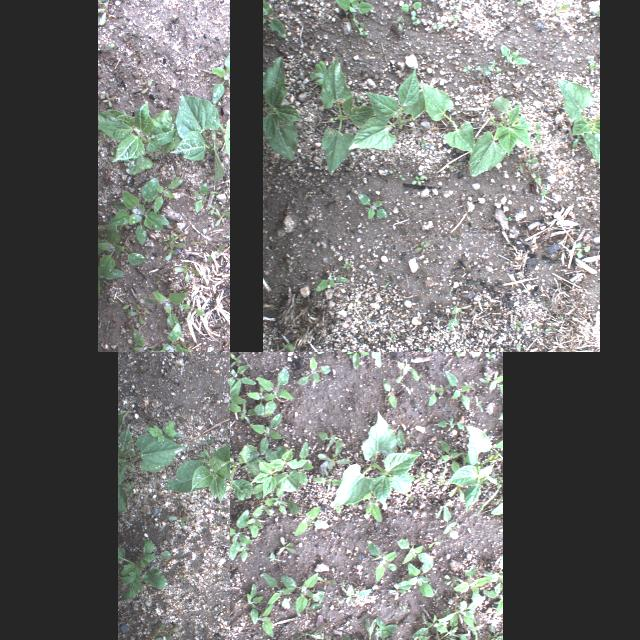crop: (329, 412, 418, 510), (348, 68, 434, 150), (120, 410, 188, 512), (321, 54, 374, 176), (98, 101, 182, 175), (470, 96, 536, 178), (170, 94, 224, 186), (158, 440, 230, 506), (262, 56, 302, 162), (448, 423, 494, 511), (420, 84, 476, 152), (558, 78, 600, 164), (255, 446, 297, 496), (230, 441, 260, 504)
weed: (109, 177, 169, 245), (98, 222, 146, 300), (120, 540, 172, 600), (138, 292, 186, 334), (394, 556, 434, 598), (286, 501, 328, 539), (282, 570, 318, 612), (365, 542, 397, 586), (248, 413, 282, 452), (454, 565, 486, 605), (252, 371, 294, 401), (446, 368, 472, 414), (230, 507, 252, 560), (209, 49, 230, 104), (335, 0, 373, 30), (152, 178, 182, 214), (298, 359, 334, 389), (442, 600, 478, 630), (291, 439, 313, 488), (153, 323, 189, 352), (338, 578, 372, 608), (261, 573, 293, 603), (263, 0, 287, 38), (246, 385, 276, 415), (244, 585, 266, 625), (144, 419, 182, 441), (413, 613, 445, 639), (358, 193, 388, 219), (394, 356, 420, 386), (318, 448, 352, 470), (230, 361, 253, 393), (129, 330, 162, 352), (397, 539, 427, 563), (352, 352, 395, 368), (310, 60, 336, 86), (438, 442, 460, 472), (316, 272, 348, 292), (334, 352, 366, 372), (448, 305, 472, 331), (480, 370, 502, 398), (146, 621, 178, 640), (486, 552, 502, 590), (501, 45, 531, 65), (440, 508, 460, 538), (178, 304, 206, 324), (260, 605, 276, 639), (230, 385, 245, 421), (376, 617, 399, 640), (175, 260, 199, 282), (379, 379, 397, 408), (485, 589, 503, 617), (362, 617, 383, 640), (417, 470, 447, 486), (254, 496, 274, 520), (437, 625, 469, 640), (274, 538, 300, 556), (476, 59, 496, 82), (316, 429, 342, 446), (127, 304, 149, 324), (194, 183, 208, 214), (423, 379, 439, 406), (469, 628, 502, 640), (313, 470, 339, 484), (364, 500, 382, 520), (300, 623, 321, 640), (436, 419, 464, 431), (207, 245, 225, 263), (169, 514, 189, 530), (250, 518, 262, 540), (448, 486, 464, 502), (164, 240, 176, 260), (555, 1, 569, 17), (577, 242, 591, 258), (162, 240, 184, 250), (532, 122, 542, 144), (398, 428, 408, 450), (216, 208, 228, 226), (526, 152, 538, 170), (491, 500, 503, 518), (315, 577, 333, 589), (401, 2, 422, 12), (102, 92, 116, 106), (98, 2, 106, 26), (414, 242, 430, 254), (483, 352, 497, 365), (276, 494, 284, 516), (140, 80, 152, 94), (230, 352, 242, 366), (446, 572, 458, 586), (390, 588, 404, 600), (209, 184, 219, 200), (440, 382, 450, 398), (475, 392, 483, 412), (510, 321, 524, 332), (394, 15, 404, 30), (412, 174, 424, 186), (540, 186, 548, 204), (216, 124, 226, 138), (544, 322, 556, 333), (167, 224, 180, 234), (179, 342, 192, 352), (190, 238, 206, 246), (448, 162, 464, 170), (172, 232, 184, 242), (515, 161, 525, 173), (573, 135, 583, 147), (384, 278, 394, 290), (512, 344, 527, 352), (240, 550, 250, 562), (426, 540, 439, 548), (208, 204, 218, 214), (532, 174, 542, 184), (282, 343, 293, 352), (451, 352, 463, 359), (170, 168, 178, 178), (450, 14, 458, 24), (341, 261, 351, 269), (493, 440, 503, 448), (311, 602, 321, 610), (122, 302, 134, 308), (410, 10, 416, 22), (114, 347, 128, 352), (218, 200, 226, 208), (453, 4, 461, 12), (182, 287, 188, 297), (358, 22, 364, 32), (433, 25, 443, 31), (590, 60, 596, 70), (462, 66, 472, 72), (412, 18, 421, 24), (226, 230, 230, 243), (389, 170, 396, 177), (162, 234, 168, 242), (156, 276, 162, 284), (360, 30, 368, 36), (420, 140, 426, 148), (534, 324, 540, 332), (334, 508, 342, 514), (227, 110, 230, 124), (390, 334, 396, 341), (449, 288, 453, 298), (356, 97, 362, 103), (109, 298, 117, 302), (498, 68, 502, 76), (398, 176, 406, 180), (560, 314, 564, 322), (516, 1, 522, 5), (452, 236, 456, 242), (503, 218, 513, 220), (484, 298, 488, 302), (518, 0, 524, 2), (484, 272, 486, 278)
